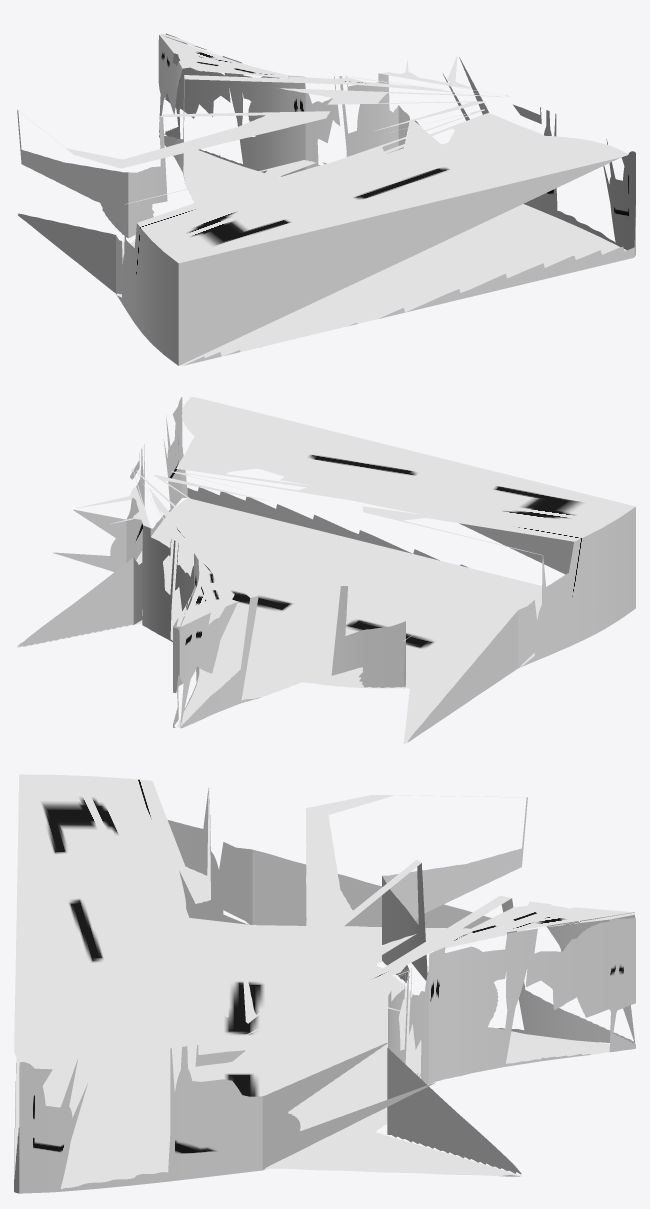
File: master.FBX
The picture shows the model from 3 angles, top to bottom: view 1: azimuth 30°, elevation 25°; view 2: azimuth 150°, elevation 25°; view 3: azimuth 270°, elevation 25°; orthographic projection. The views are drawn at different scales.
Parts seen in each view (by area): view 1: Shape1; view 2: Shape1; view 3: Shape1.
Part boxes in pixels (<box>): Shape1: <box>17,33,635,365</box>; Shape1: <box>17,397,635,743</box>; Shape1: <box>14,774,635,1193</box>.
Size of the model in its own units: 4.62 by 1 by 4.23.
